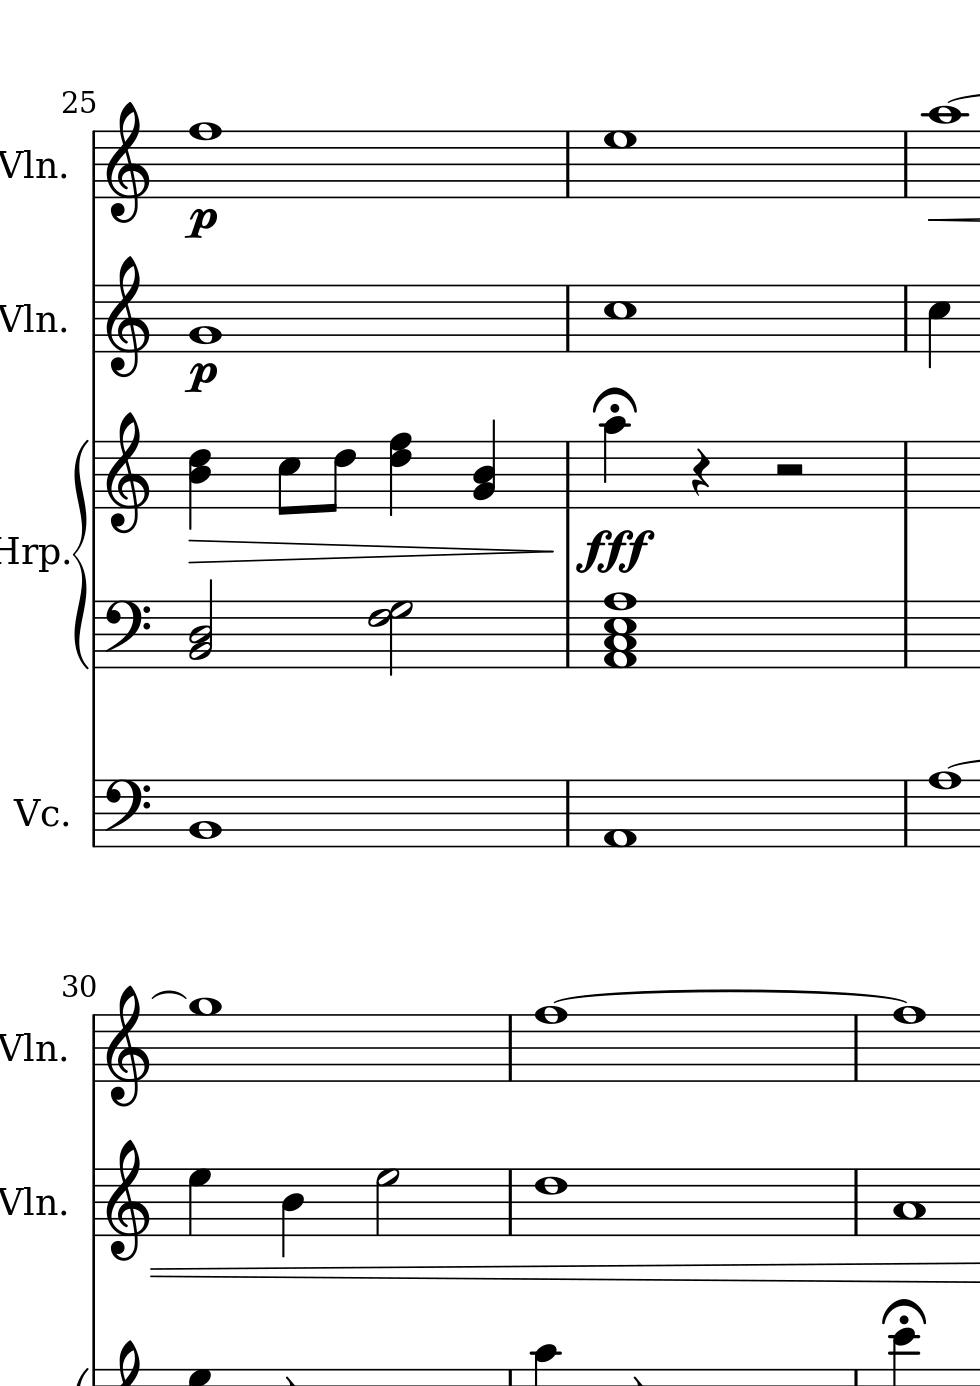0: (78, 971, 97, 1000)
1_1: (602, 777, 638, 852)
1_10: (926, 105, 964, 200)
1_2: (186, 776, 224, 850), (188, 282, 221, 355)
1_3: (892, 1164, 925, 1238)
1_4th: (600, 590, 638, 670)
1_5: (603, 282, 637, 356)
1_6: (533, 1166, 568, 1238)
1_7: (602, 130, 637, 201)
1_8: (927, 769, 963, 850), (532, 1003, 568, 1084), (891, 1003, 927, 1084), (187, 118, 222, 200)
1_9: (185, 996, 223, 1086)
2: (60, 89, 78, 116)
2_2_4: (188, 577, 216, 671)
2_6_7: (368, 599, 414, 678)
2_7: (373, 1166, 400, 1238)
3: (60, 972, 77, 999)
4_10: (599, 416, 629, 512)
4_2_4: (472, 417, 498, 513)
4_4: (279, 1166, 305, 1257)
4_4_6: (188, 438, 213, 534)
4_5: (925, 282, 951, 371)
4_6_8: (388, 432, 414, 519)
4_7: (185, 1166, 213, 1238)
5: (78, 87, 97, 116)
8_5: (276, 439, 301, 517)
8_6: (323, 439, 356, 515)
Brace: (71, 437, 90, 674)
Diminuendo_hairpin: (189, 537, 554, 564)
Fclef: (102, 599, 151, 671), (102, 778, 150, 850)
Fermata_above: (589, 385, 640, 417), (878, 1296, 928, 1328)
Gclef: (103, 255, 151, 378), (103, 100, 150, 225), (104, 409, 151, 534), (103, 1137, 150, 1262), (104, 984, 150, 1108)
Hrp: (1, 530, 62, 576)
Rests2: (767, 461, 807, 483)
Rests4: (688, 446, 712, 498)
Single_barline: (557, 600, 579, 668), (557, 131, 577, 198), (501, 1169, 520, 1235), (558, 442, 577, 508), (559, 779, 577, 846), (501, 1015, 519, 1080), (897, 131, 914, 198), (898, 285, 915, 352), (897, 780, 914, 846), (847, 1015, 864, 1081), (847, 1169, 864, 1234), (86, 131, 102, 199), (559, 286, 576, 350), (897, 441, 913, 508), (897, 601, 913, 667), (87, 285, 102, 352), (86, 780, 101, 847), (87, 1169, 101, 1236), (88, 441, 102, 508), (87, 1015, 101, 1082), (89, 600, 102, 668)
Slur: (555, 988, 909, 1004), (148, 990, 187, 1002)
Vc: (10, 794, 65, 830)
Vln: (1, 1027, 59, 1069), (1, 1181, 58, 1223), (1, 299, 58, 339), (1, 145, 59, 185)
fff: (573, 527, 658, 577)
p: (183, 361, 218, 394), (183, 207, 217, 241)
